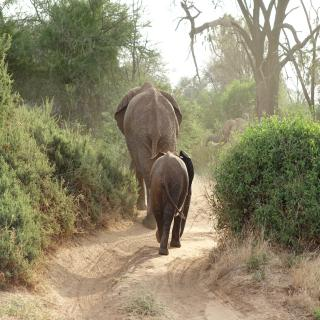Elephant: (115, 82, 184, 232), (146, 148, 191, 256)
